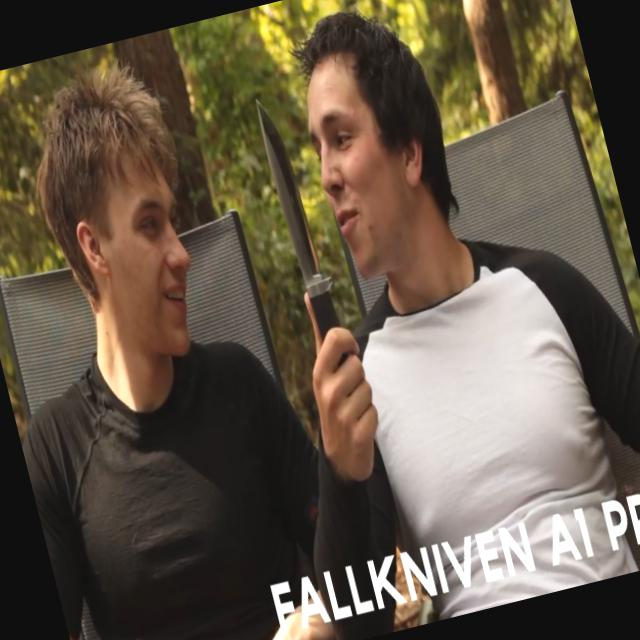knife: (240, 71, 378, 412)
